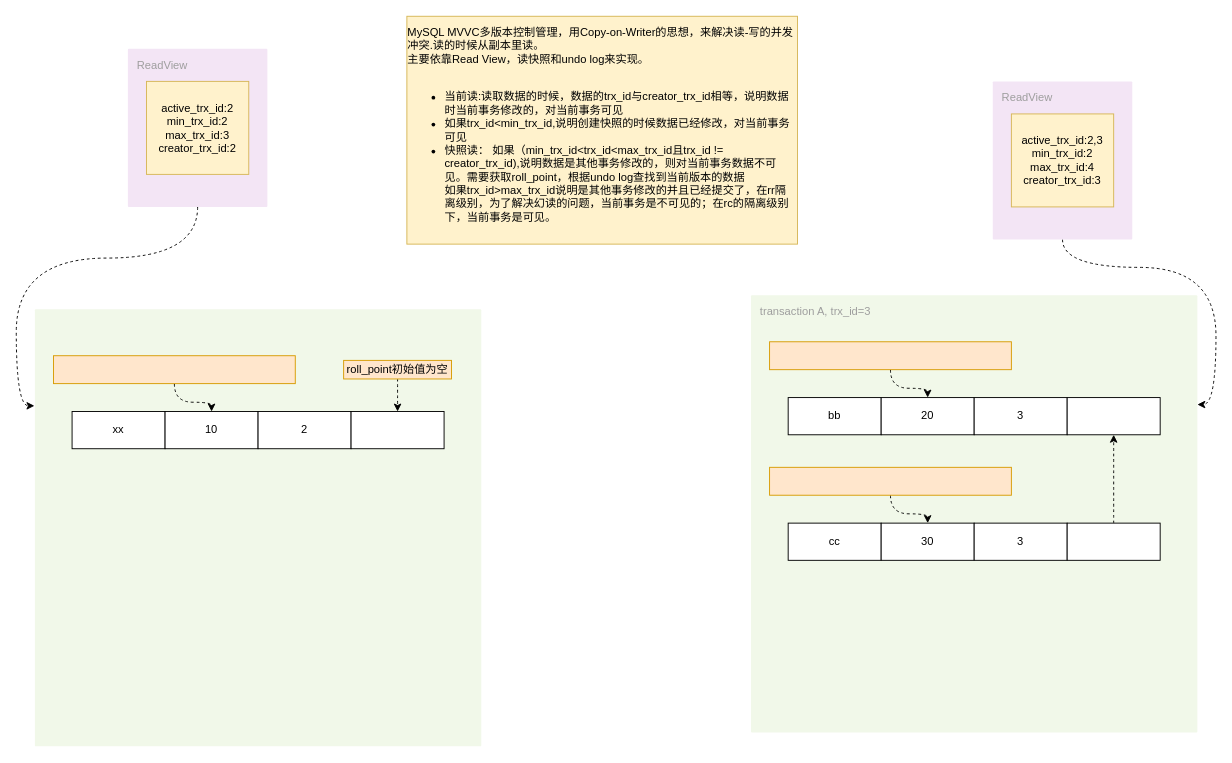
Image size: 1232x763. Some labels were removed from this diagram. Here are the shapes that lost their labels. From the top down, the box of each, then its label:
(53, 355, 295, 384): insert into user(name, age) value ("xx",10);
(769, 341, 1011, 370): update user set name="bb",age=20
(1066, 397, 1160, 435): ox888888
(769, 466, 1011, 495): update user set name="cc",age=30
(34, 309, 481, 746): transaction A, trx_id=2
(1066, 522, 1160, 560): 0x999999
